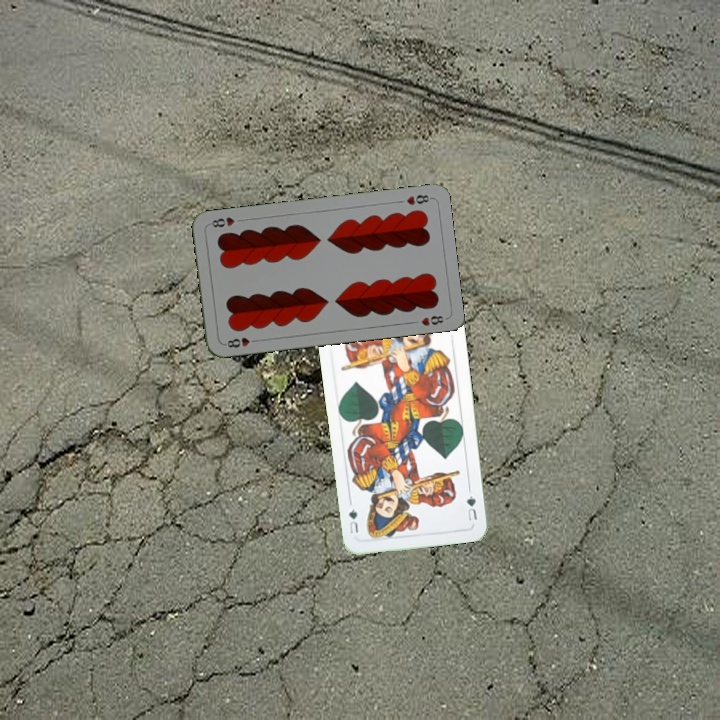GU: (462, 491, 480, 523)
H8: (220, 333, 261, 350), (402, 191, 434, 208)
